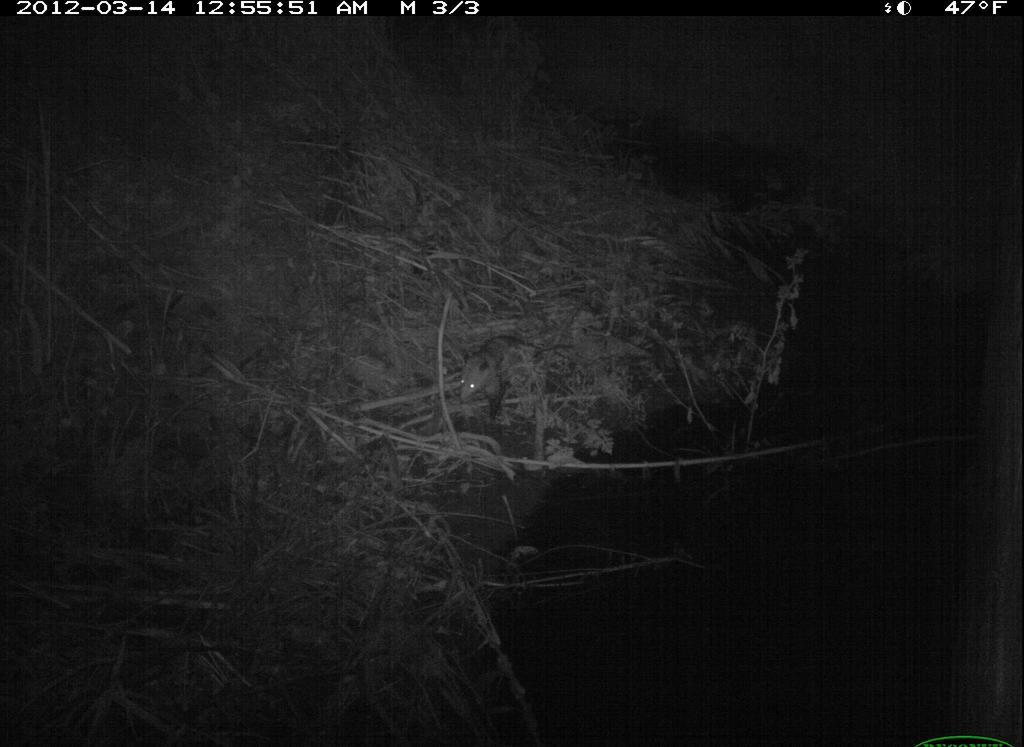opossum: (438, 319, 583, 442)
